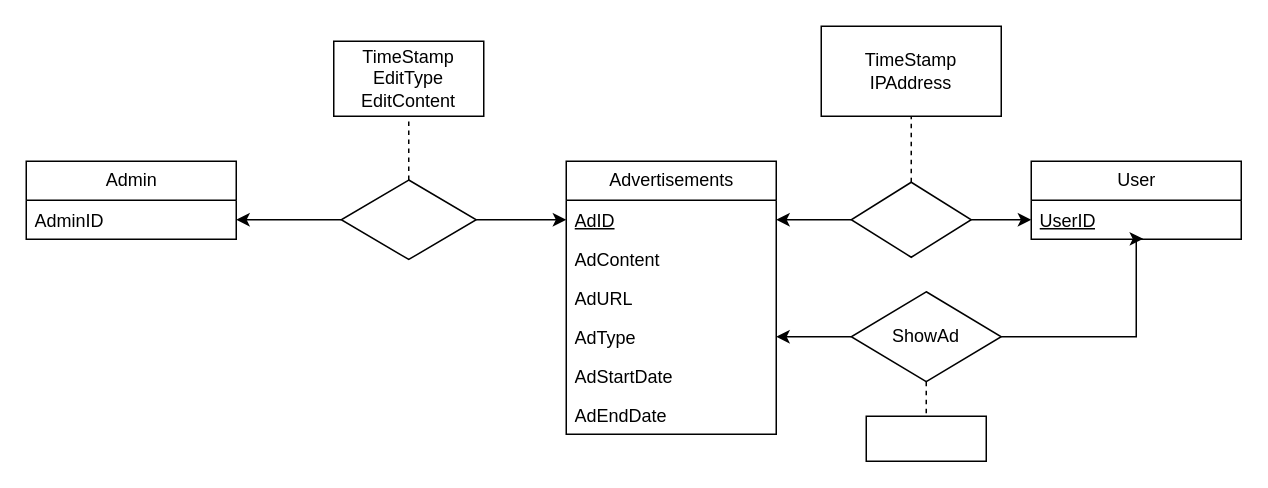
This 1268x488 diagram has some shape labels left out. The centre of each missing label's shape, as x and y in pixels:
"AdminEdit" goes at point 408,219.
"ClickAd" goes at point 910,219.
"TimeStamp" goes at point 925,438.
